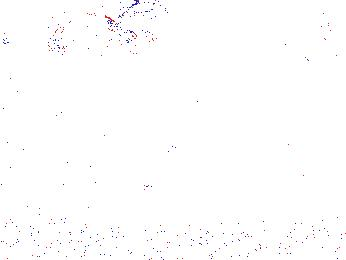moon jellyfish: (34, 1, 112, 60), (271, 1, 335, 64), (57, 15, 129, 56), (217, 4, 291, 40), (116, 3, 176, 42)
